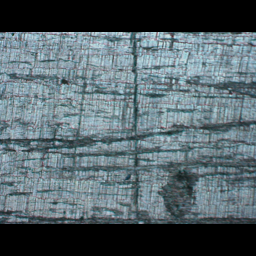d: (153, 166, 200, 223)
